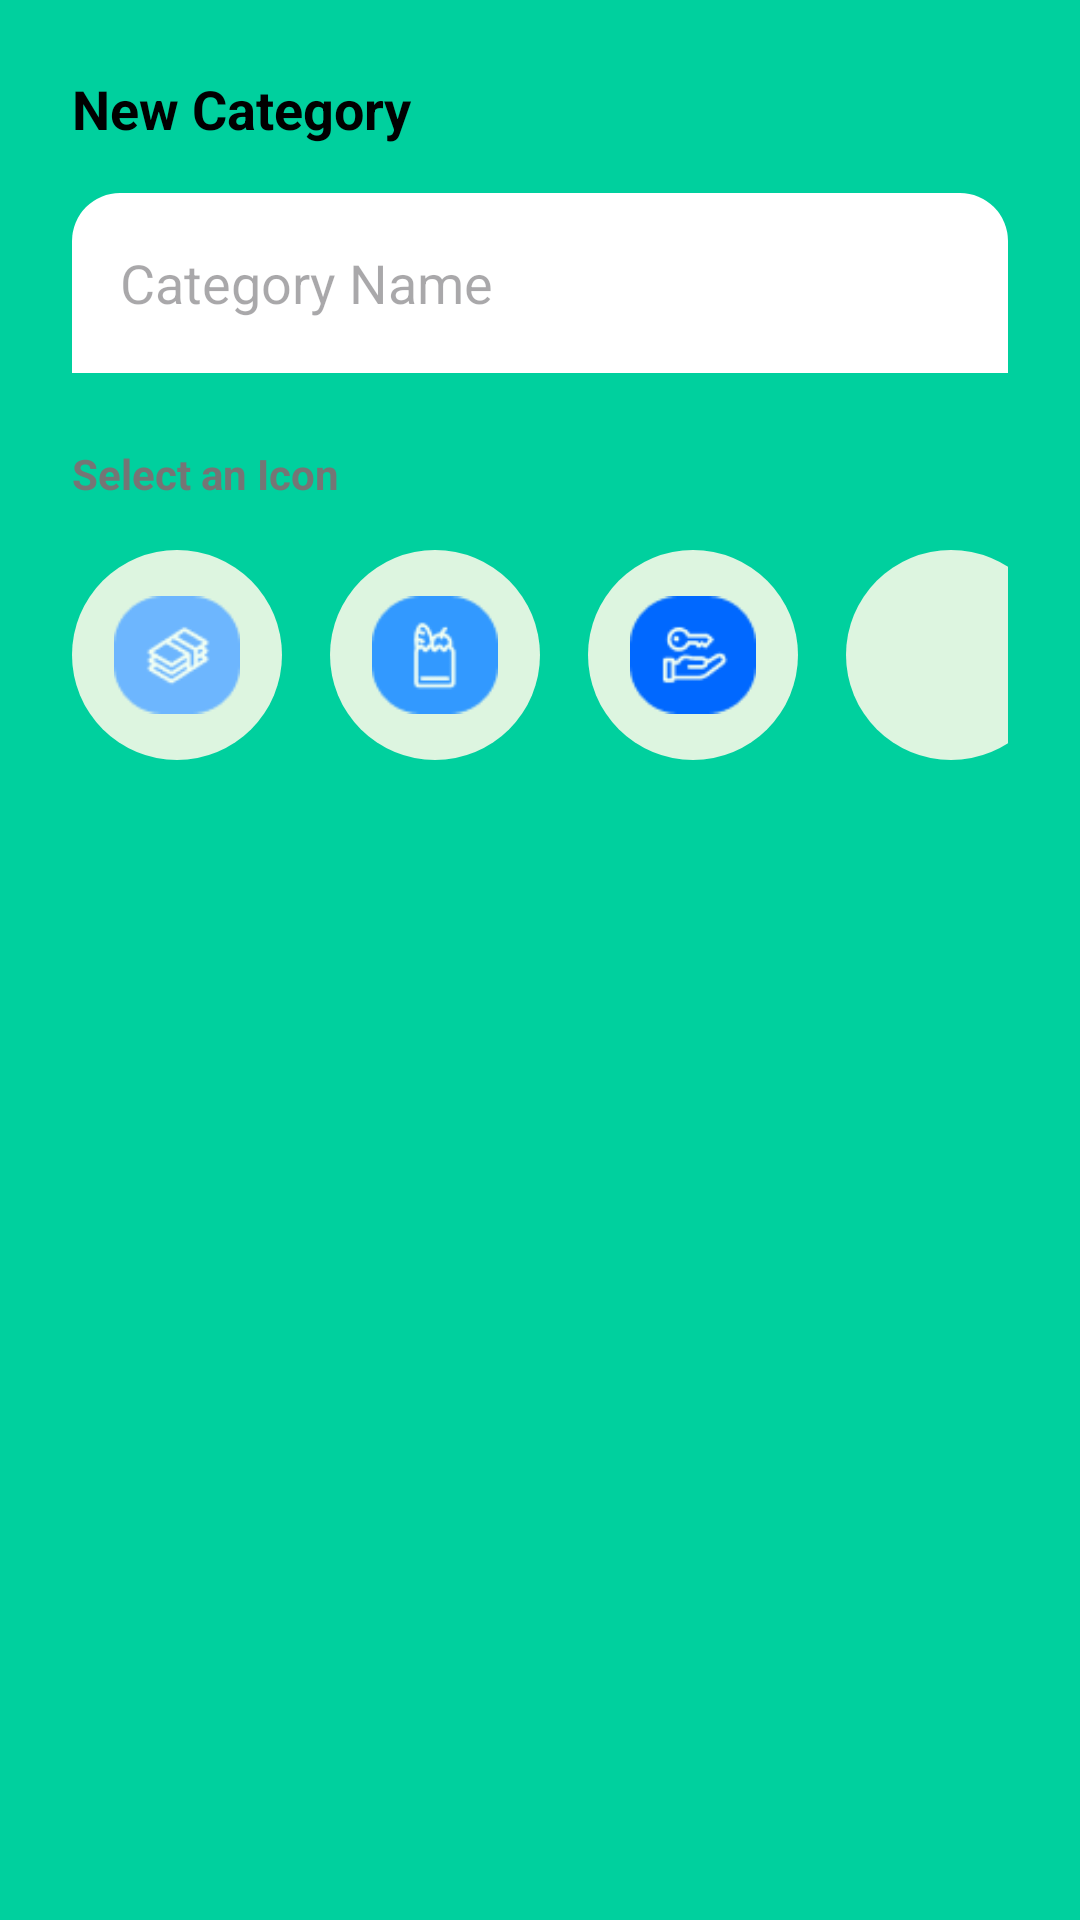

Where icons sit on this 1080×1920 app screen, as (x1, y1, x2, y2):
groceries: (330, 550, 540, 760)
rent: (588, 550, 798, 760)
salary: (72, 550, 282, 760)
